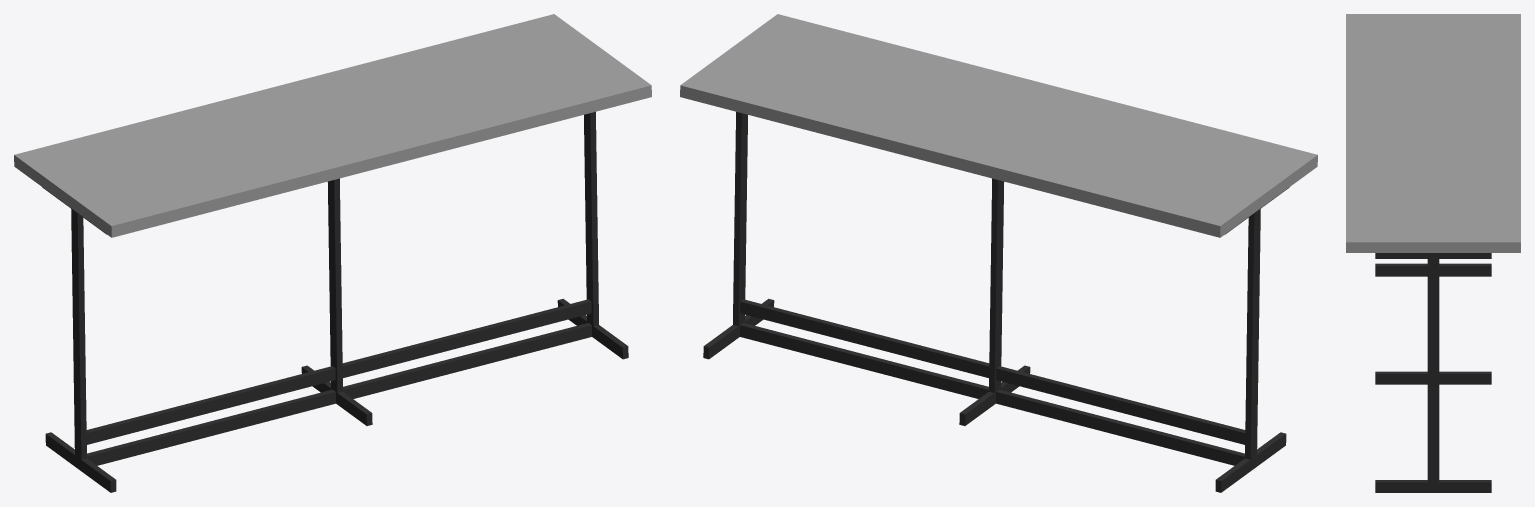
File: Working Table.fbx
The picture shows the model from 3 angles, left to right: view 1: azimuth 30°, elevation 25°; view 2: azimuth 150°, elevation 25°; view 3: azimuth 270°, elevation 25°; orthographic projection. The views are drawn at different scales.
Parts seen in each view (by area): view 1: Working Table; view 2: Working Table; view 3: Working Table.
Boxes of the visible parts, x1,y1,x2,y2 form: Working Table: [14, 14, 651, 492]; Working Table: [680, 14, 1317, 492]; Working Table: [1346, 14, 1520, 492].
Bounding box in the file's own units: 240 × 124 × 75.
1 material, 1 textured.
